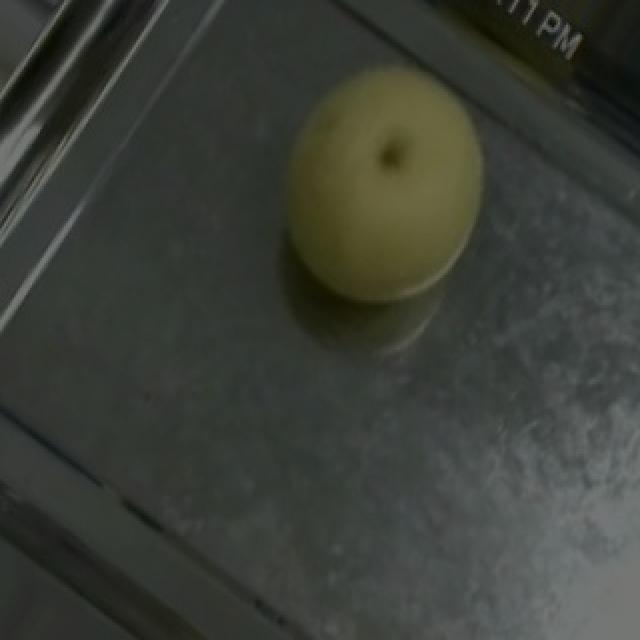Fruit: (228, 22, 536, 348)
